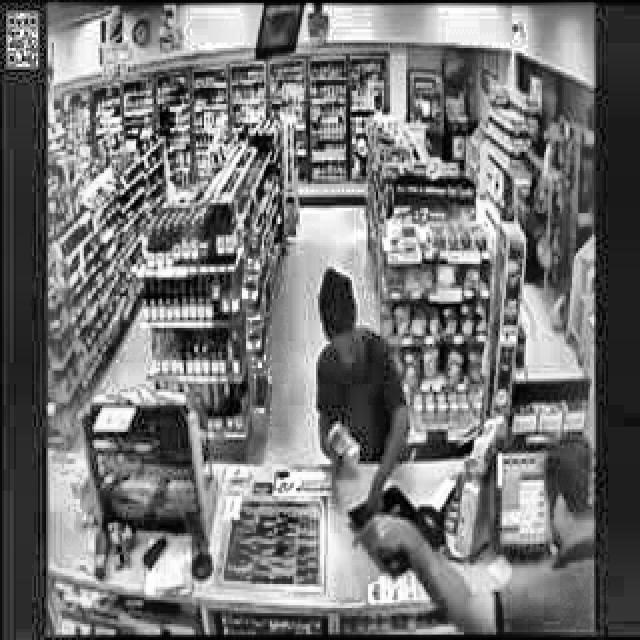robbery: (307, 262, 415, 520)
